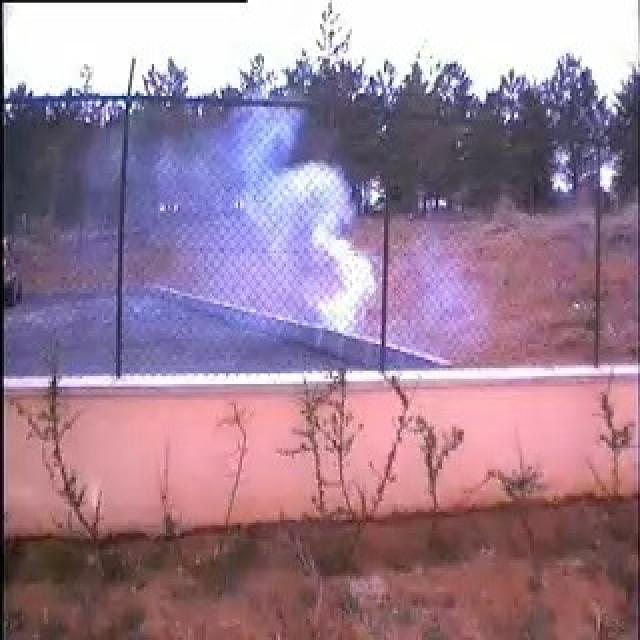smoke: (121, 98, 382, 372)
